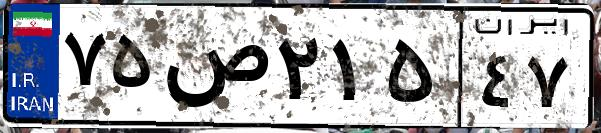1: (330, 28, 385, 110)
2: (270, 28, 330, 110)
4: (475, 38, 525, 113)
5: (385, 28, 445, 110), (110, 28, 158, 98)
7: (57, 26, 110, 100), (525, 38, 570, 115)
ص: (158, 20, 270, 120)
